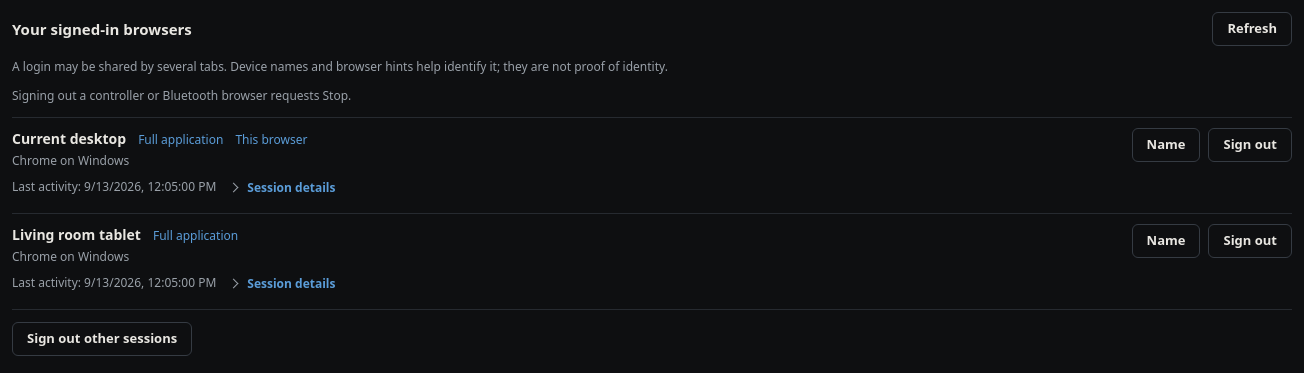
Test: own login management › ignores a canceled read after a completed mutation
Expected: the text "Living room tablet" is shown, [12,224,141,245]
Step 1. Click the button with aria-label "Refresh sessions" → (1252, 29), box [1212,12,1292,46]
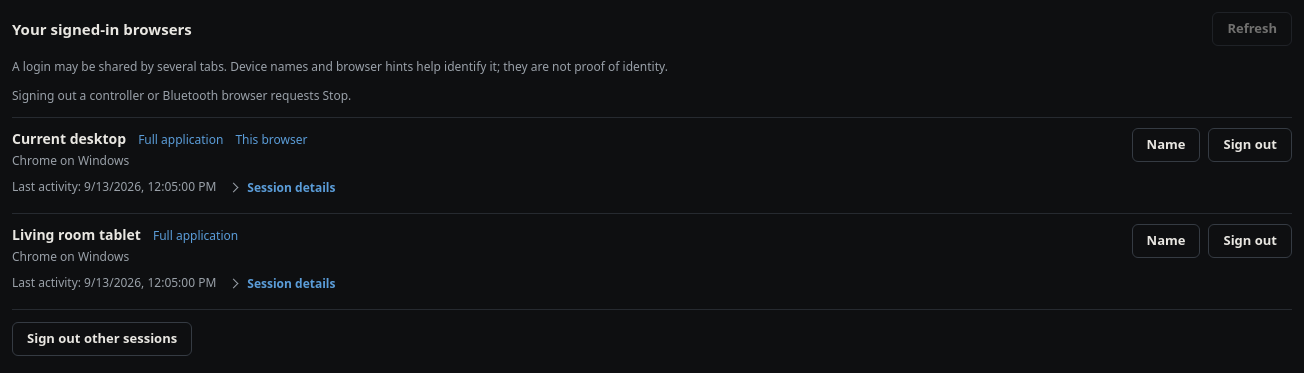
Step 2. Click the button "Sign out other sessions" → (102, 339), box [12,322,192,356]
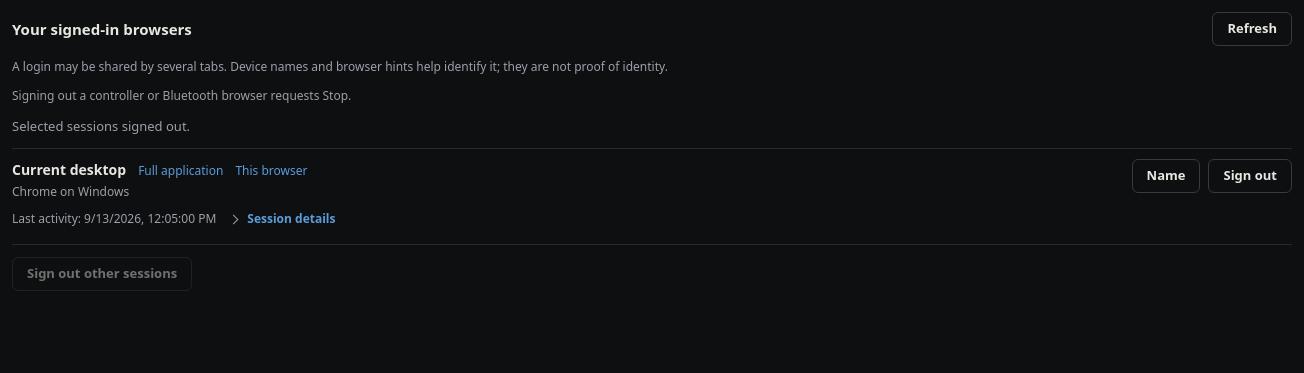
Now the text "Living room tablet" is gone
